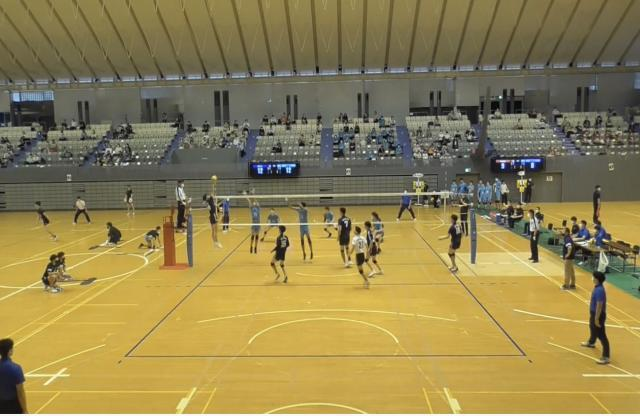spike: (199, 172, 227, 252)
